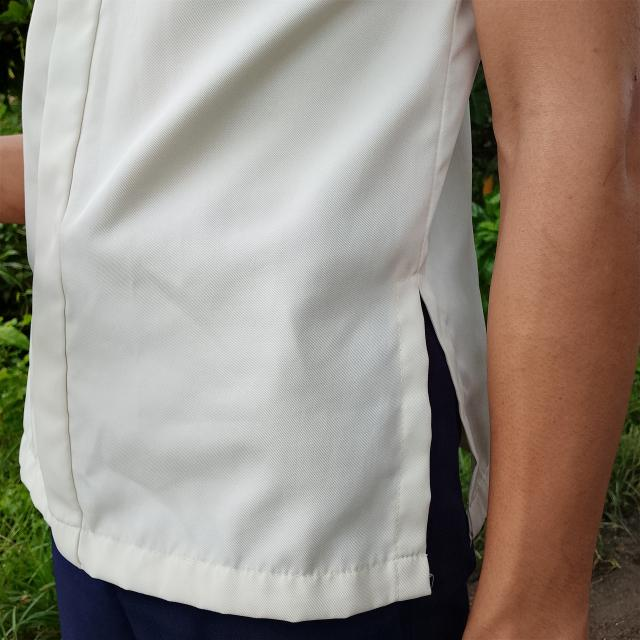education_male_uniform: (8, 2, 562, 630)
